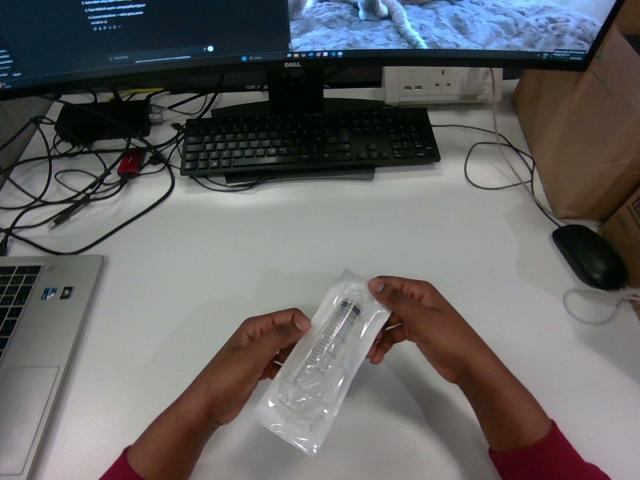syringe: (255, 270, 389, 455)
